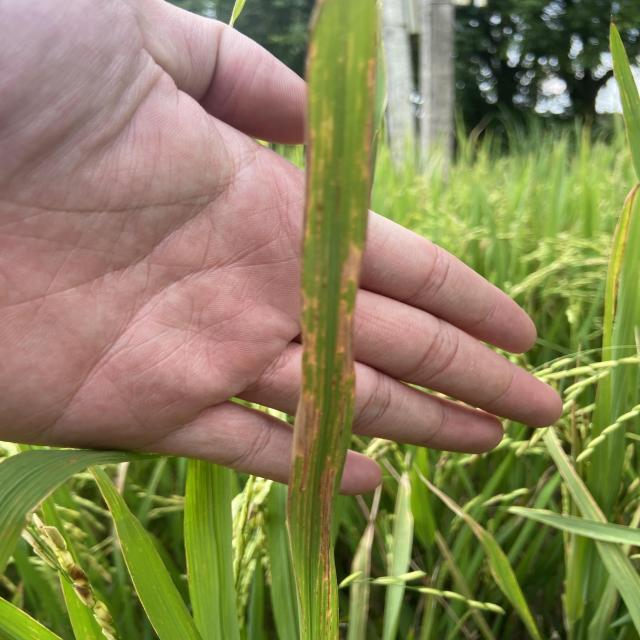Dom soc vi khuan: (317, 394, 347, 638)
